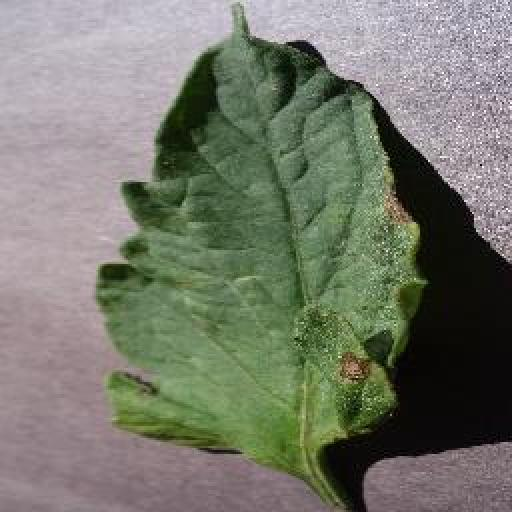Early Blight: (95, 8, 428, 472)
